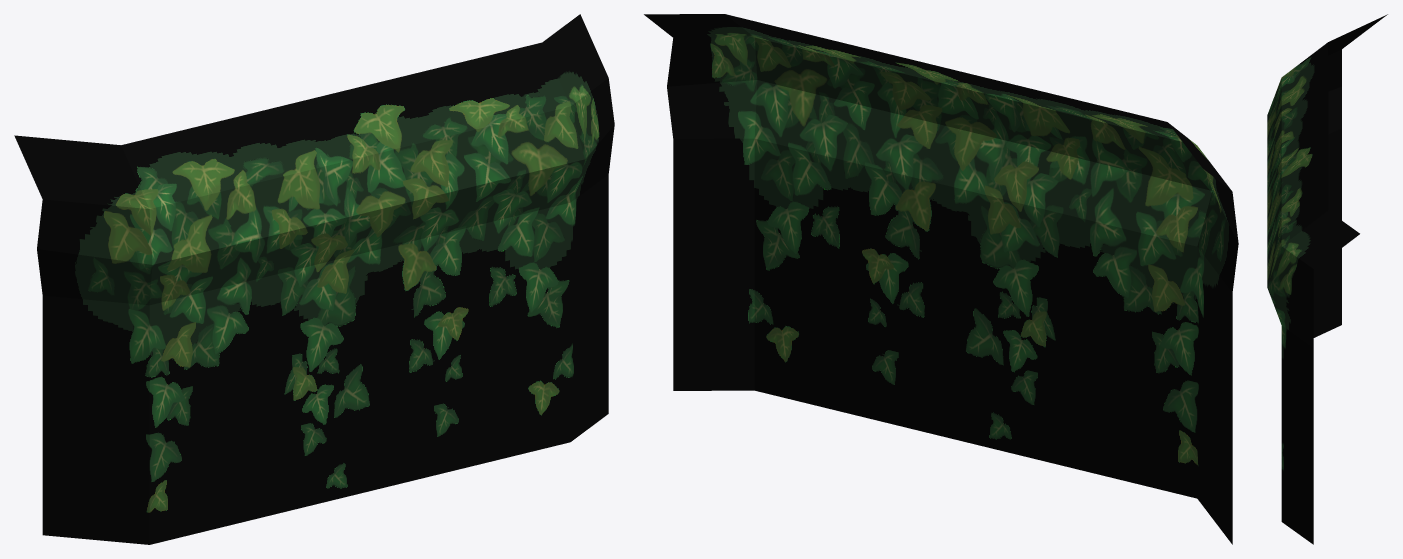
File: hiedra 1.glb
3 views of the same model, side by side, from view 1: azimuth 30°, elevation 25°; view 2: azimuth 150°, elevation 25°; view 3: azimuth 270°, elevation 25° (orthographic). The views are drawn at different scales.
Visible parts, largest first — view 1: Plane; view 2: Plane; view 3: Plane.
Boxes of the visible parts, x1,y1,x2,y2 form: Plane: [14, 14, 614, 544]; Plane: [644, 14, 1238, 544]; Plane: [1267, 14, 1387, 544].
Bounding box in the file's own units: 3.84 × 2.48 × 0.8743.
1 material, 1 textured.
